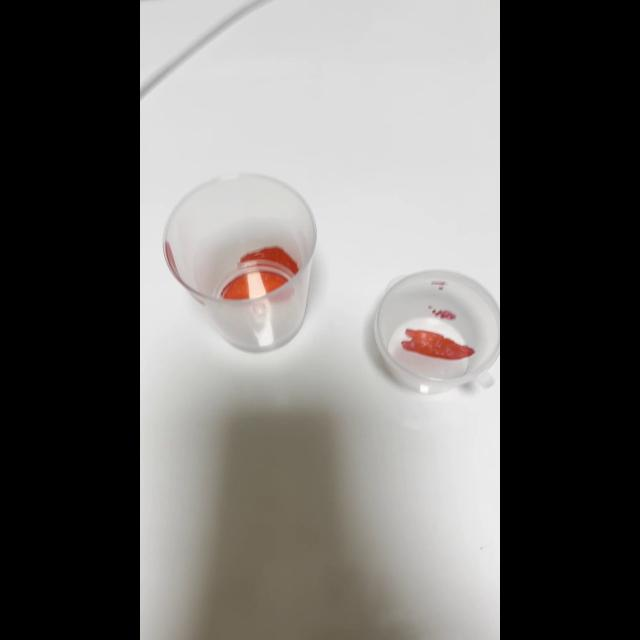dirty: (172, 175, 318, 348), (378, 264, 500, 396)
